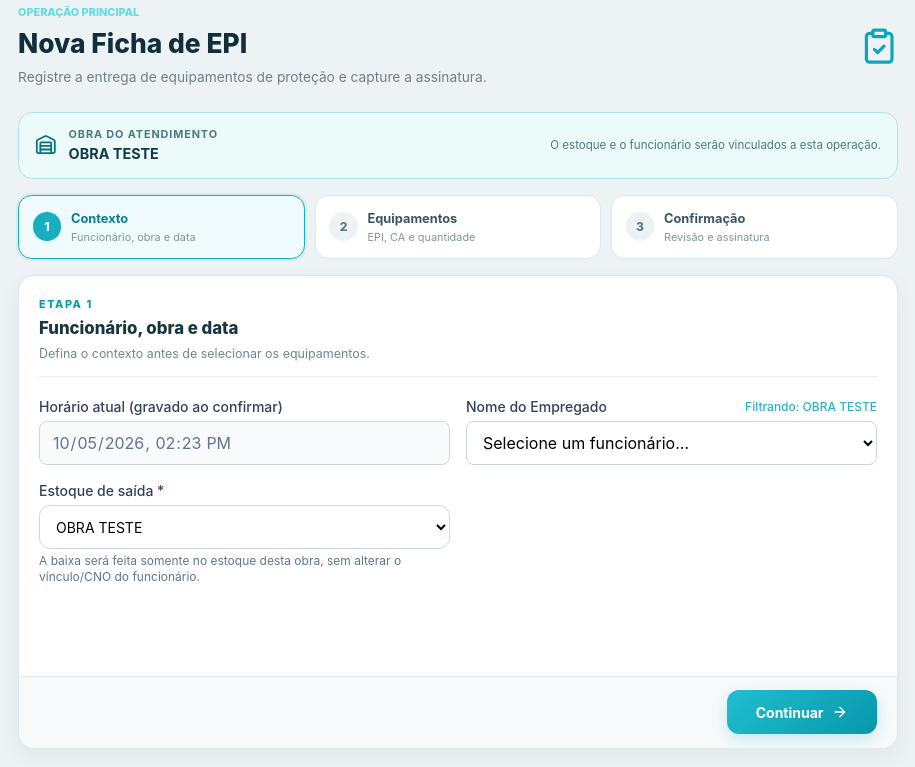
Test: validações de entrega em componente isolado › bloqueia descrição avulsa sem vínculo ao estoque
Select "FUNCIONARIO FICTICIO (TESTE) - OBRA TESTE" in the dropdown labelled "Nome do Empregado": (672,443) top-left (466, 421), bottom-right (877, 465)
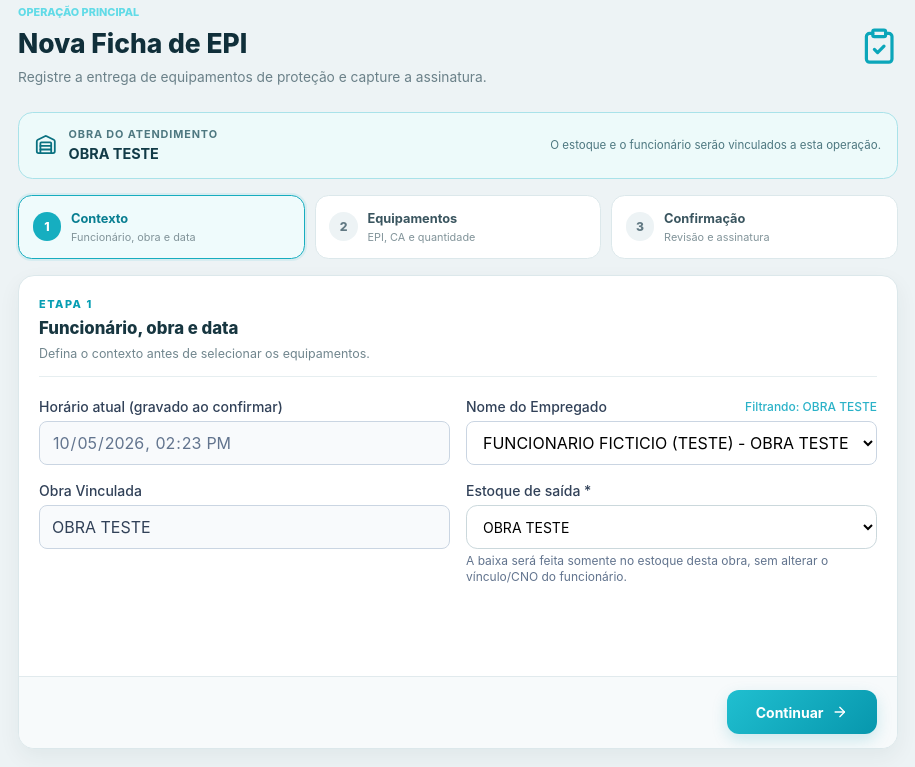
Click the button "Continuar": (802,712) top-left (727, 690), bottom-right (877, 734)
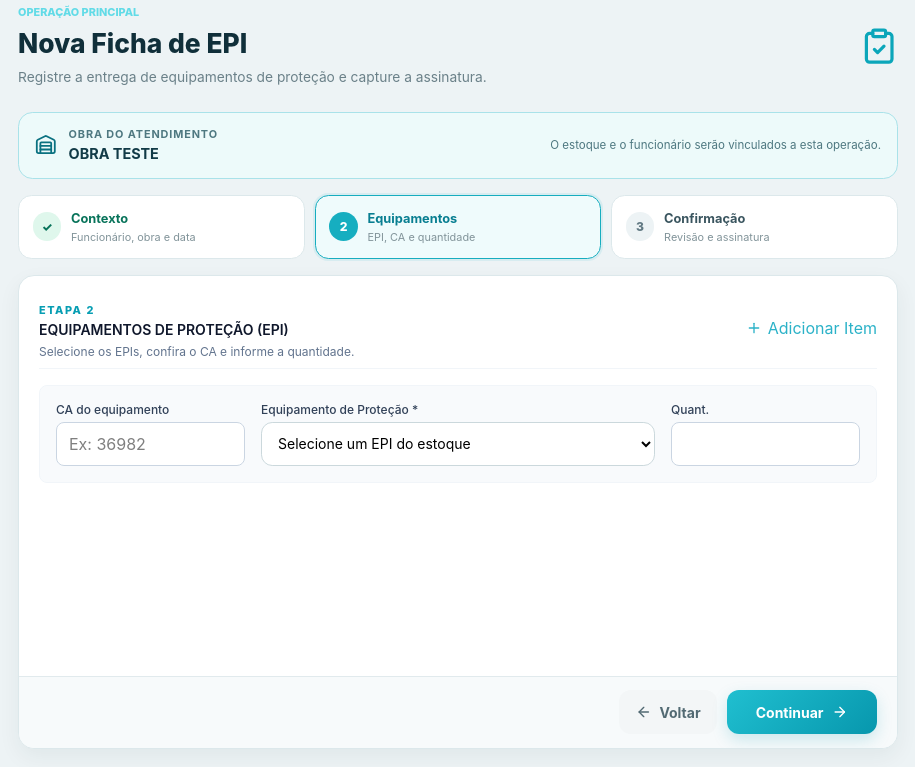
Check: the dropdown labelled "Equipamento de Proteção *" is shown
Select "ITEM AVULSO" in the dropdown labelled "Equipamento de Proteção *": (458,444) top-left (261, 422), bottom-right (655, 466)
In the number field: (766,444) top-left (671, 422), bottom-right (860, 466), type "1"
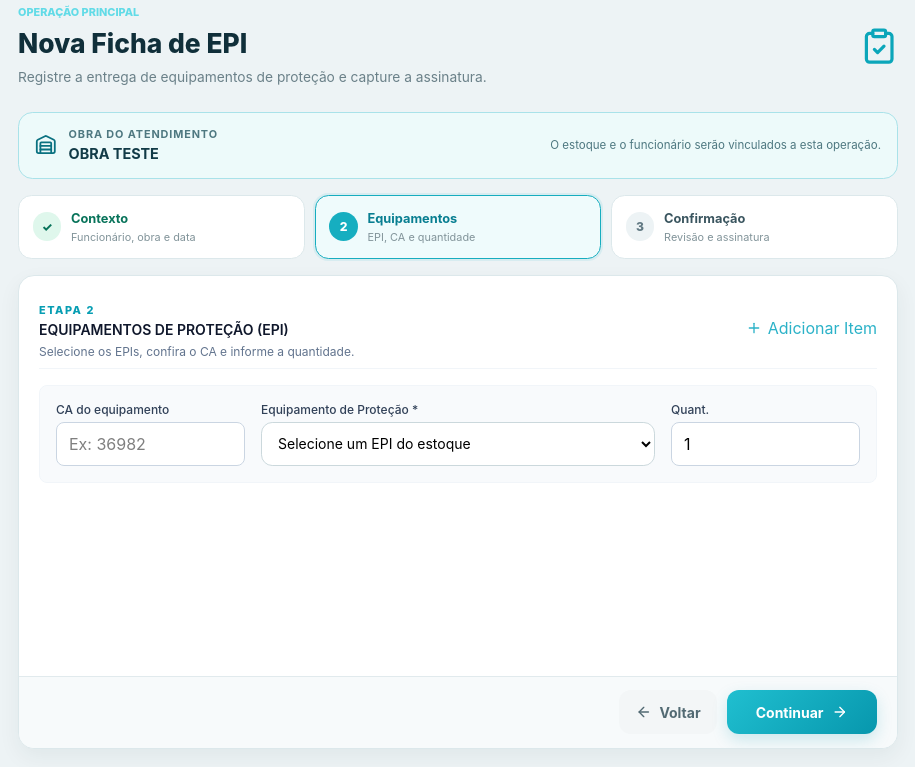
Click the button "Continuar": (802,712) top-left (727, 690), bottom-right (877, 734)
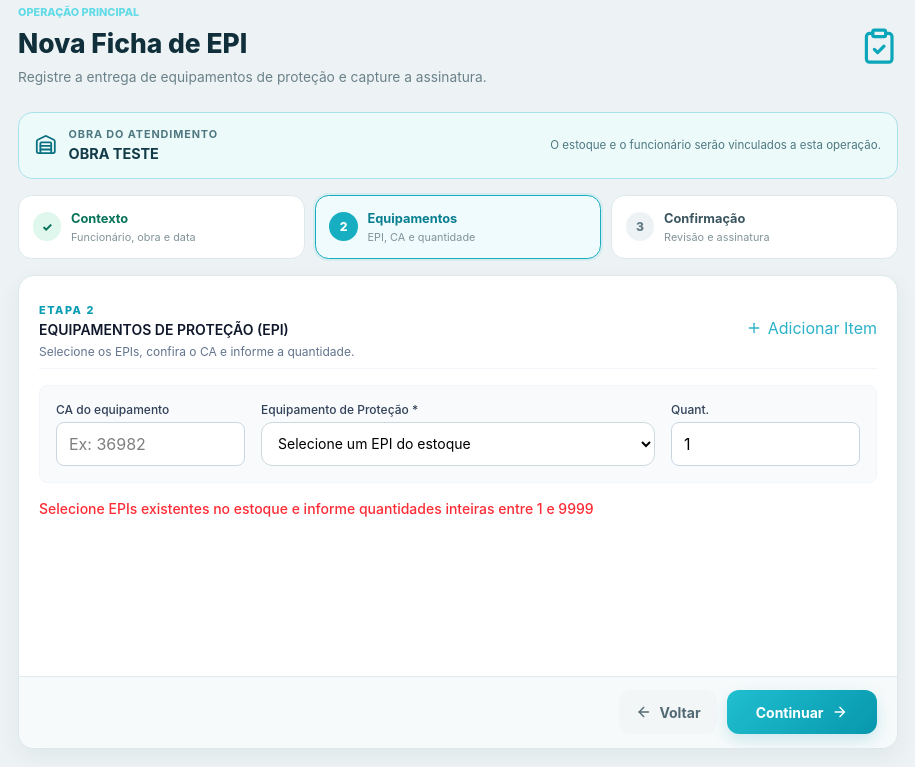
Check: the text "Selecione EPIs existentes" is shown, box top-left (39, 500), bottom-right (594, 517)
